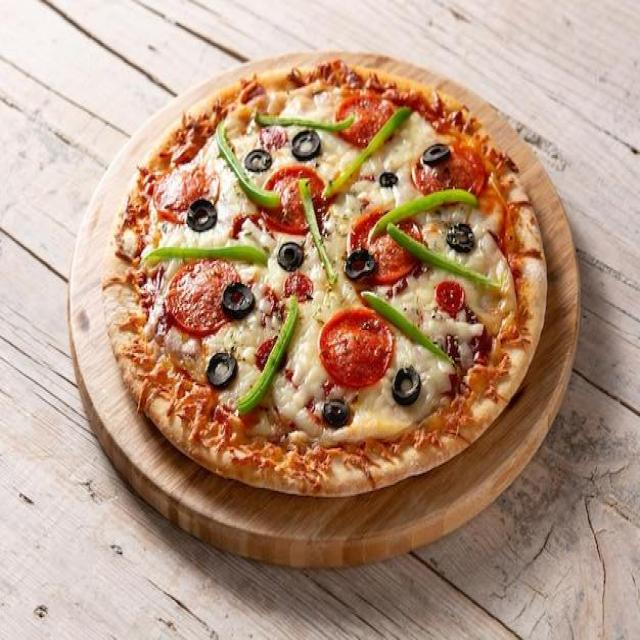olive: (186, 196, 219, 234), (221, 284, 253, 322), (205, 350, 236, 388), (344, 247, 374, 282), (394, 365, 420, 403), (274, 242, 306, 272), (446, 220, 472, 256), (294, 130, 322, 162), (418, 140, 448, 165), (322, 399, 351, 423), (244, 148, 271, 172), (380, 170, 400, 188)
pepperoni: (164, 258, 242, 337), (319, 309, 393, 389), (348, 205, 421, 284), (410, 145, 484, 207), (258, 170, 330, 232), (154, 164, 222, 221), (336, 86, 393, 151), (438, 281, 465, 313), (285, 270, 311, 301), (230, 217, 261, 237), (256, 341, 270, 368)
pizza: (103, 56, 552, 494)
